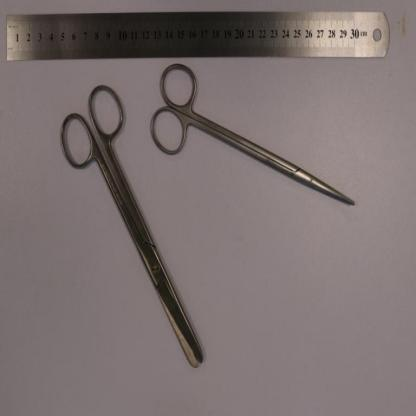7 Metzenbaum Scissors: (150, 61, 356, 206)
Dressing Scissors: (57, 81, 204, 368)
